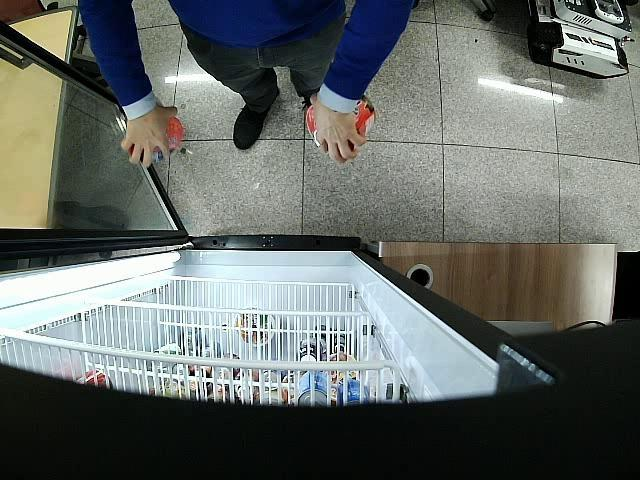01_ShinRamen_L: (305, 95, 375, 147), (130, 117, 184, 162)
